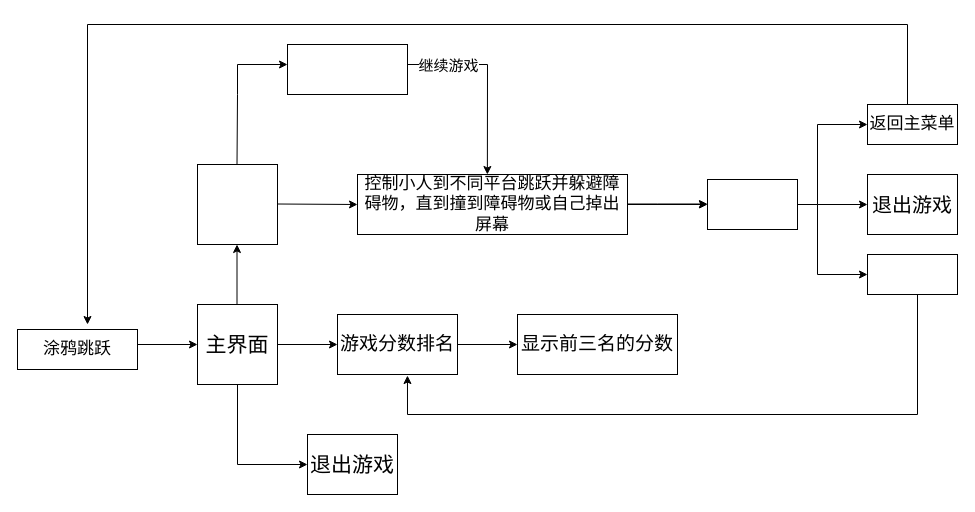
Some shapes in this 975 by 512 pixel diagram are drawn without their labels. The box of each missing label's shape, as (x1, y1, x2, y2) in pixels:
保持记录: (866, 254, 958, 294)
开始游戏: (196, 164, 278, 244)
暂停游戏: (286, 44, 408, 94)
游戏结束: (706, 178, 798, 230)
